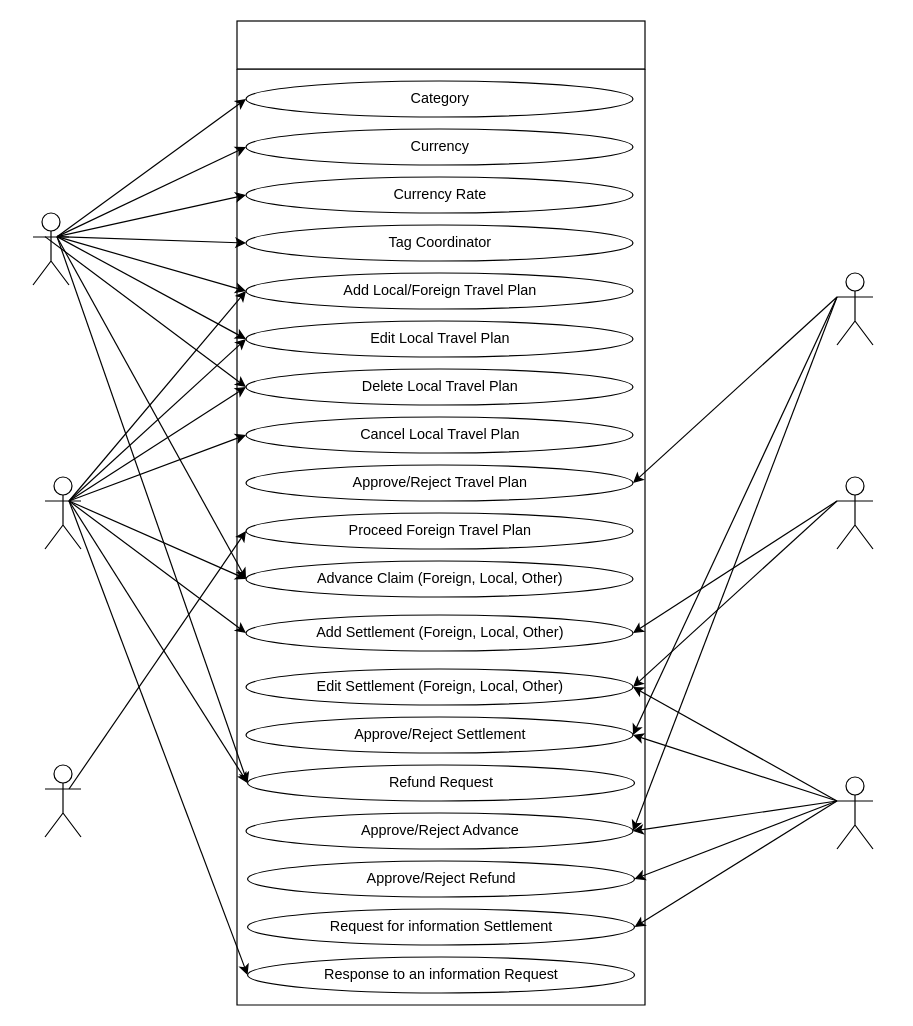
This 913x1026 diagram has some shape labels left out. Each missing label, with the centre of its shape:
Admin: (x=50, y=248)
Auditor: (x=854, y=812)
Coordinator: (x=854, y=512)
Employee: (x=62, y=512)
IExpense: (x=440, y=44)
Supervisor: (x=854, y=308)
Travel Admin: (x=62, y=800)
